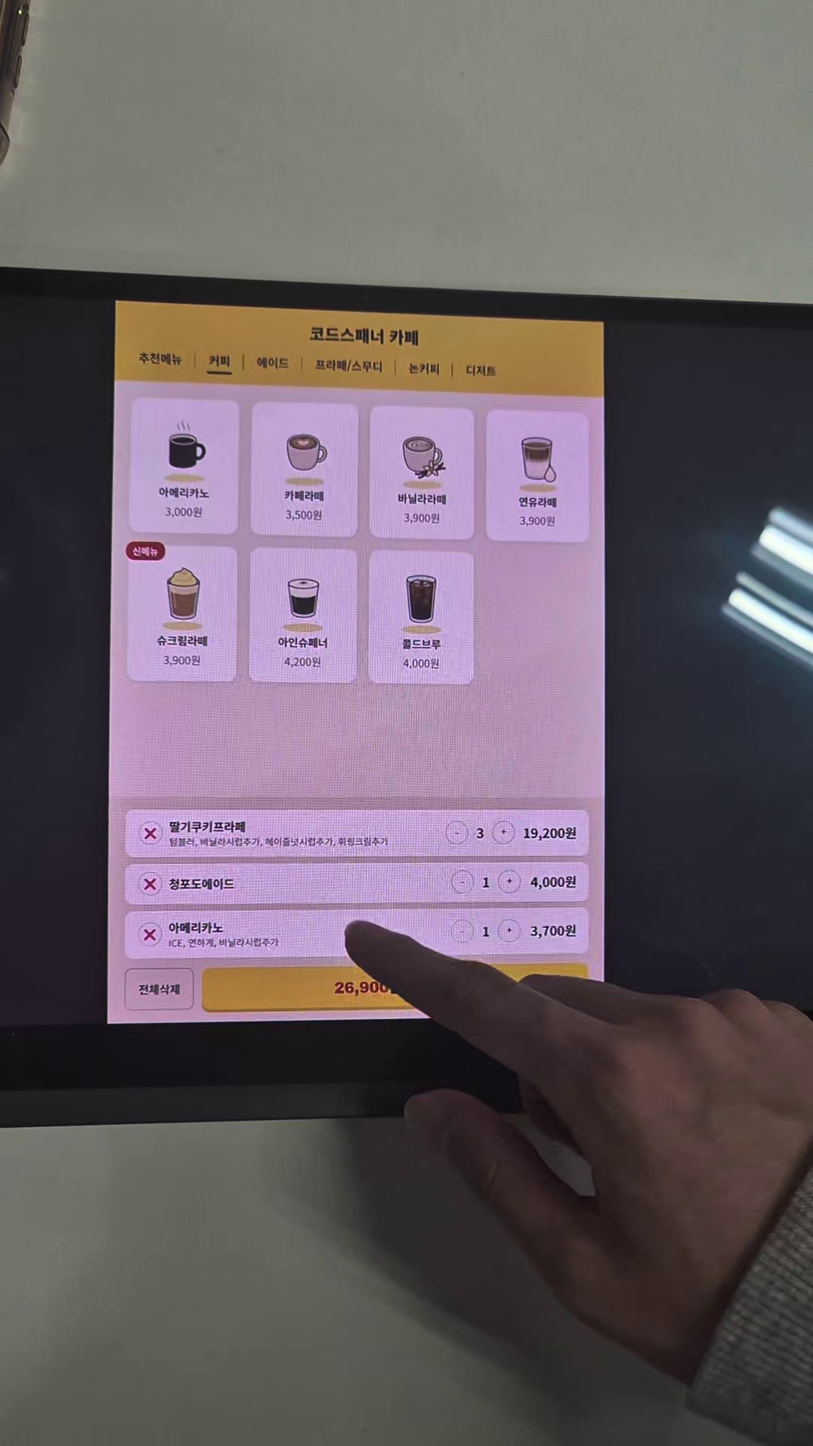action_button: (202, 963, 589, 1012), (125, 968, 194, 1010)
cart_item: (125, 907, 589, 958), (125, 809, 589, 858), (125, 862, 589, 905)
category_tab: (314, 357, 384, 375), (137, 350, 184, 367), (255, 353, 291, 371), (407, 360, 440, 377), (464, 363, 498, 379), (207, 352, 232, 368)
menu_back: (126, 541, 238, 682), (131, 398, 241, 535), (250, 403, 359, 538), (249, 547, 357, 683), (368, 551, 476, 685), (369, 406, 475, 540), (486, 409, 590, 544)
menu_name: (155, 633, 210, 649), (157, 485, 210, 501), (276, 635, 329, 650), (396, 492, 448, 506), (283, 489, 326, 503), (401, 637, 442, 651), (518, 495, 558, 509)
menu_price: (284, 507, 323, 522), (164, 505, 203, 519), (283, 655, 322, 669), (519, 514, 556, 528), (162, 654, 201, 667), (402, 657, 440, 670), (403, 511, 440, 524)
